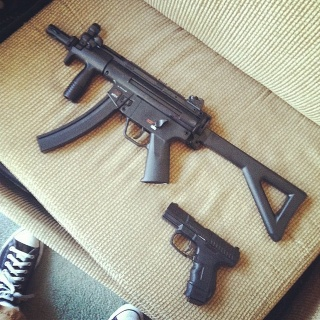pistol: (161, 201, 241, 311)
rifle: (37, 20, 310, 244)
